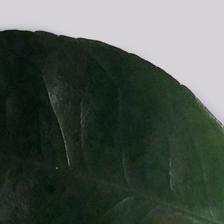healthy: (3, 33, 224, 224)
